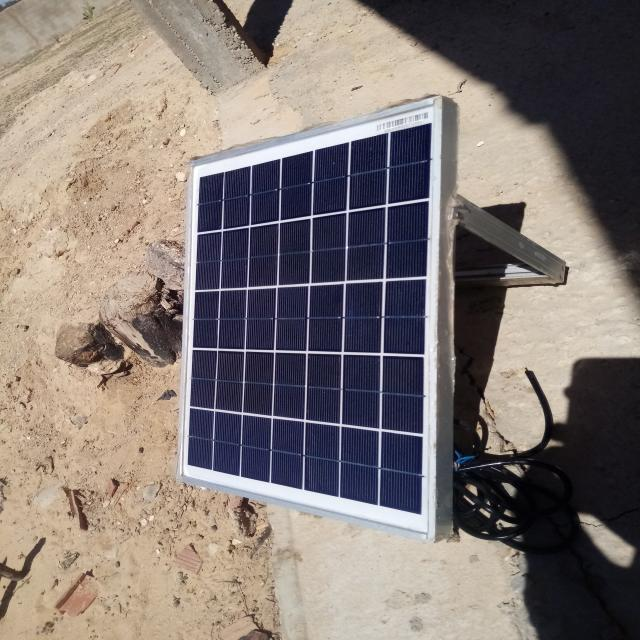Normal Solar Panel: (181, 97, 445, 534)
